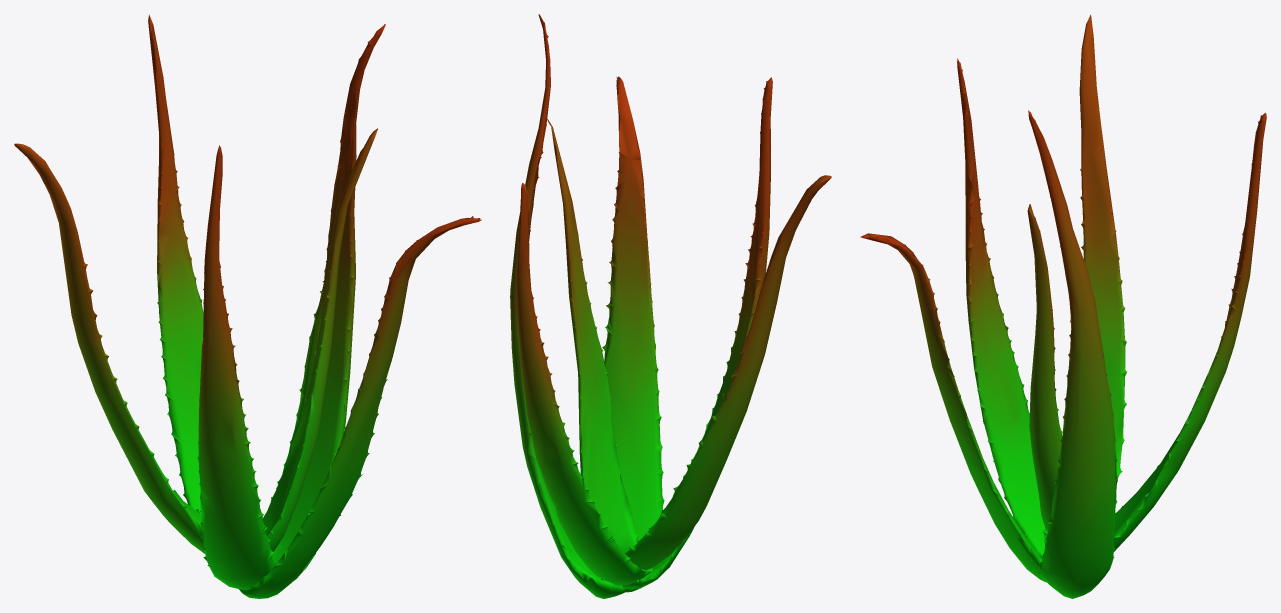
File: Aloe Vera_LOD3_Var1_ve4tbbrha.fbx
3 views of the same model, side by side, from view 1: azimuth 30°, elevation 25°; view 2: azimuth 150°, elevation 25°; view 3: azimuth 270°, elevation 25° (orthographic). The views are drawn at different scales.
Parts seen in each view (by area): view 1: _zqv7_Var1_LOD3; view 2: _zqv7_Var1_LOD3; view 3: _zqv7_Var1_LOD3.
Boxes of the visible parts, x1=… form: _zqv7_Var1_LOD3: x1=14, y1=14, x2=481, y2=598; _zqv7_Var1_LOD3: x1=510, y1=14, x2=831, y2=598; _zqv7_Var1_LOD3: x1=860, y1=14, x2=1266, y2=598.
Bounding box in the file's own units: 31.64 × 49.4 × 34.43.
